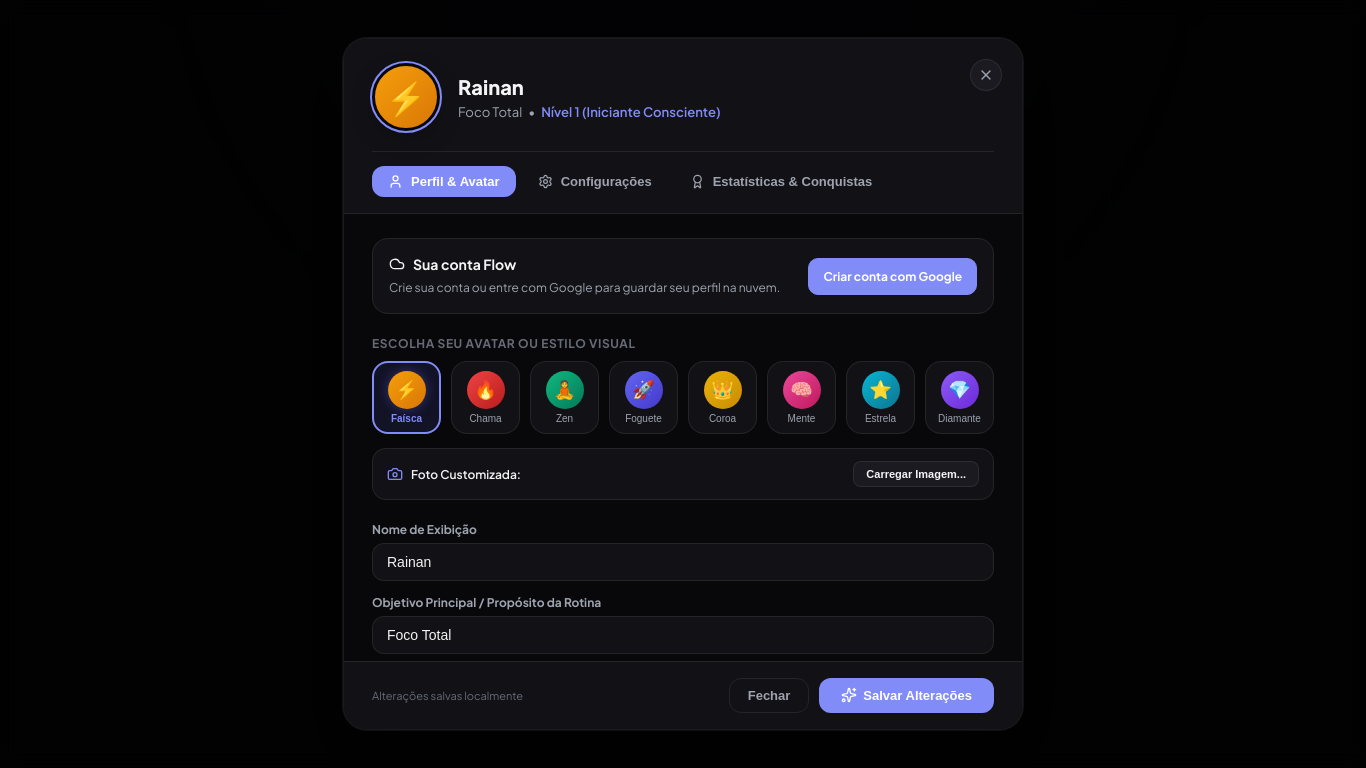
Test: UserProfileModal Component › deve permitir alternar para a aba de Configurações e interagir com opções
Click the button with test id "tab-settings-btn" at (595, 182), box top-left (522, 166), bottom-right (668, 197)
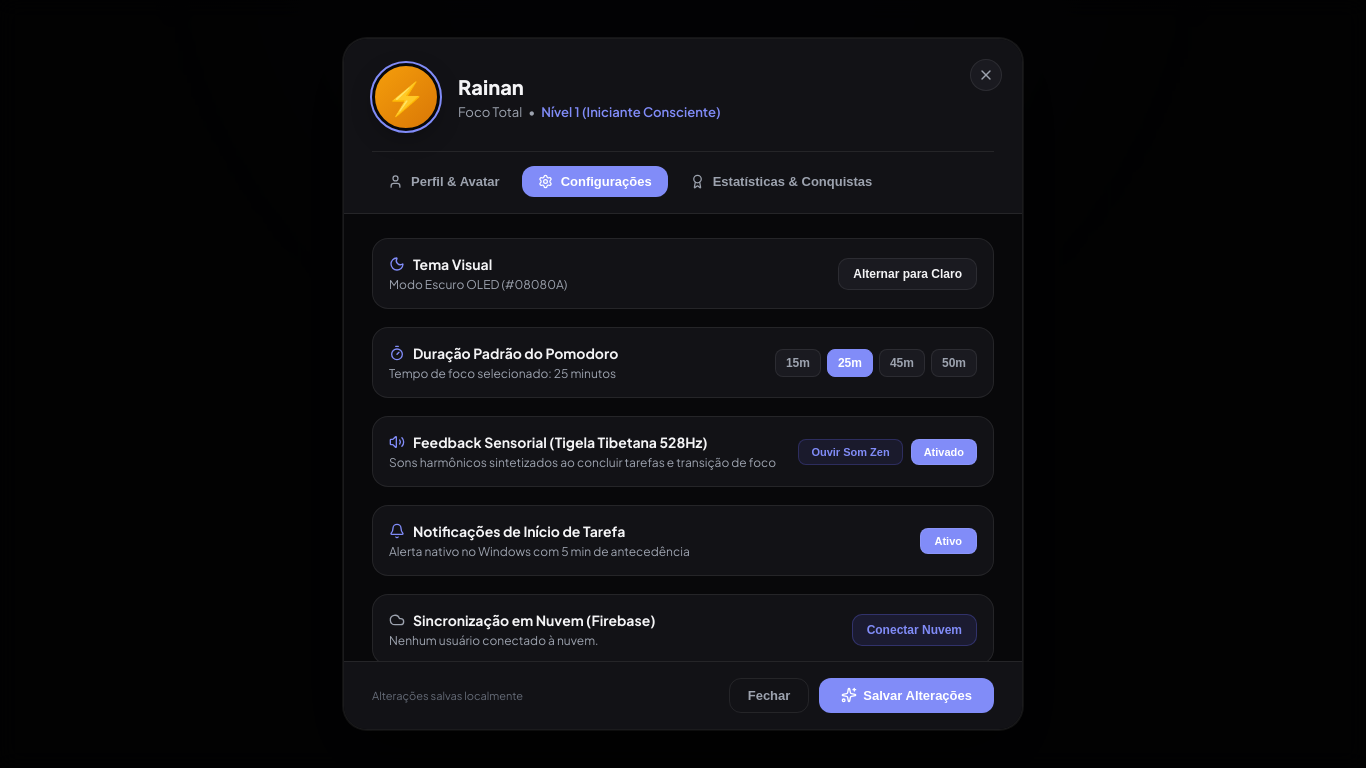
Expected: the text "Tema Visual" is shown, top-left (413, 255), bottom-right (492, 273)
Expected: the text "Duração Padrão do Pomodoro" is shown, top-left (413, 344), bottom-right (618, 362)
Expected: the text "Feedback Sensorial (Tigela Tibetana 528Hz)" is shown, top-left (413, 433), bottom-right (708, 451)
